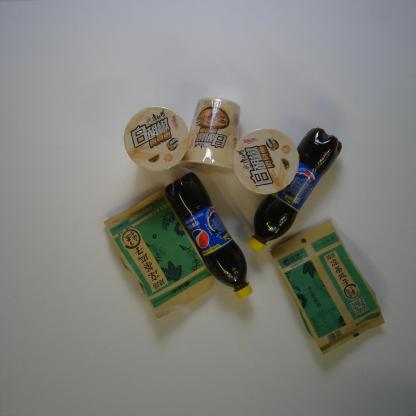Dried Food: (269, 218, 387, 358), (103, 187, 216, 319)
Drink: (248, 127, 343, 254), (164, 171, 254, 301)
Instant Noodles: (178, 97, 241, 176), (232, 128, 300, 196), (123, 106, 191, 172)
